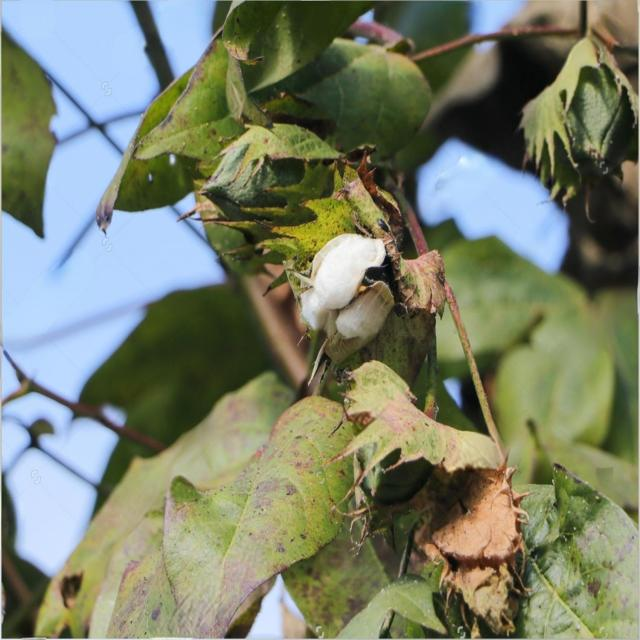Early_blight: (278, 181, 451, 359)
